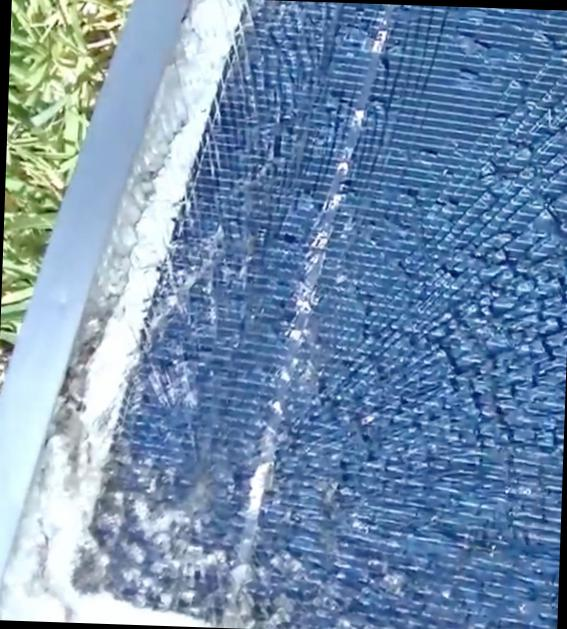Crack: (366, 74, 566, 619), (59, 268, 360, 624)
